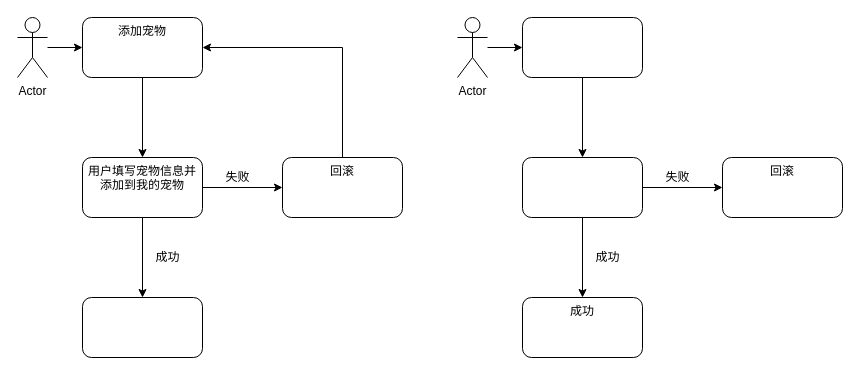
Image size: 860x375. Some labels were removed from this diagram. The shapes that lost their labels are listed below. From the top down, each one's box as (x1, y1, x2, y2) in pixels, then its label:
(522, 16, 642, 78): 修改宠物
(522, 156, 642, 218): 用户选择某个宠物进行修改
(82, 296, 202, 358): 完成
